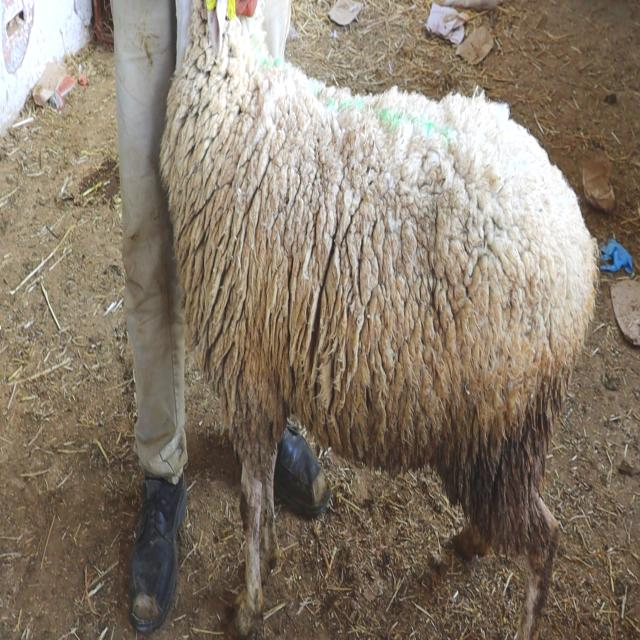Score_3: (160, 0, 599, 639)
